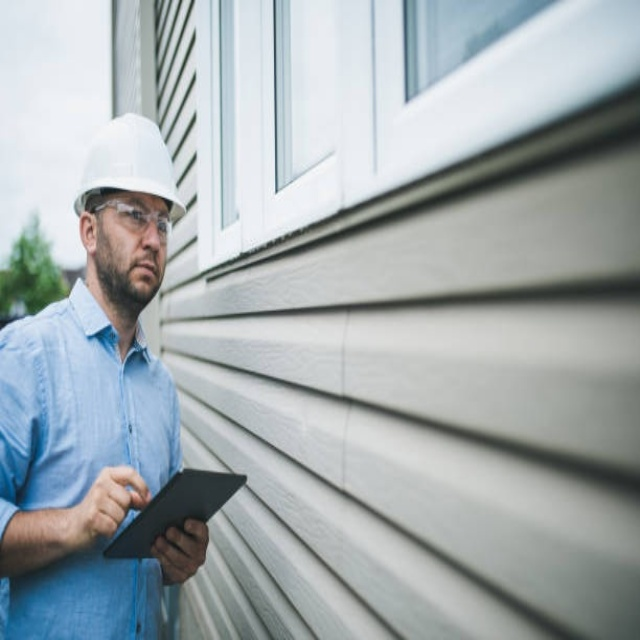Gafas: (91, 199, 173, 242)
Sin_guantes: (76, 463, 151, 550), (153, 510, 211, 587)
Sin_mascara: (123, 253, 162, 290)
